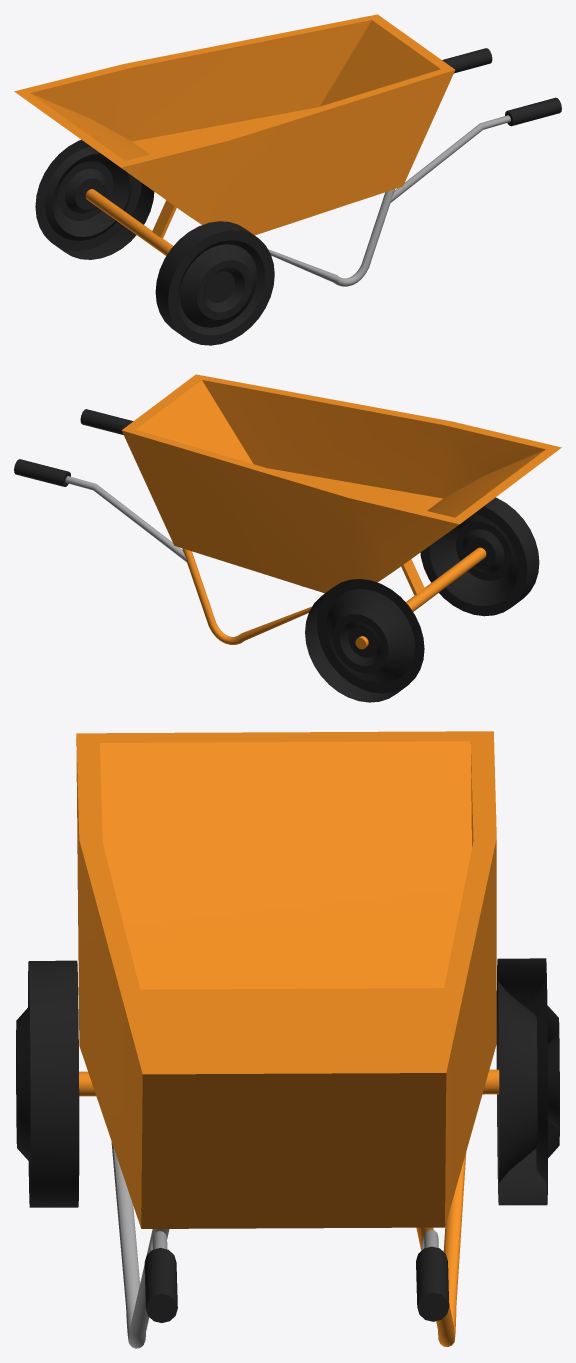
Rendered from Trolly.fbx.
The picture shows the model from 3 angles, top to bottom: view 1: azimuth 30°, elevation 25°; view 2: azimuth 150°, elevation 25°; view 3: azimuth 270°, elevation 25°; orthographic projection. The views are drawn at different scales.
Visible parts, largest first — view 1: Pallet.005; view 2: Pallet.005; view 3: Pallet.005.
Part boxes in pixels (x1,y1,x2,y2): Pallet.005: [14, 14, 561, 345]; Pallet.005: [14, 374, 561, 702]; Pallet.005: [16, 731, 559, 1348].
Bounding box in the file's own units: 91.68 × 70.09 × 178.
